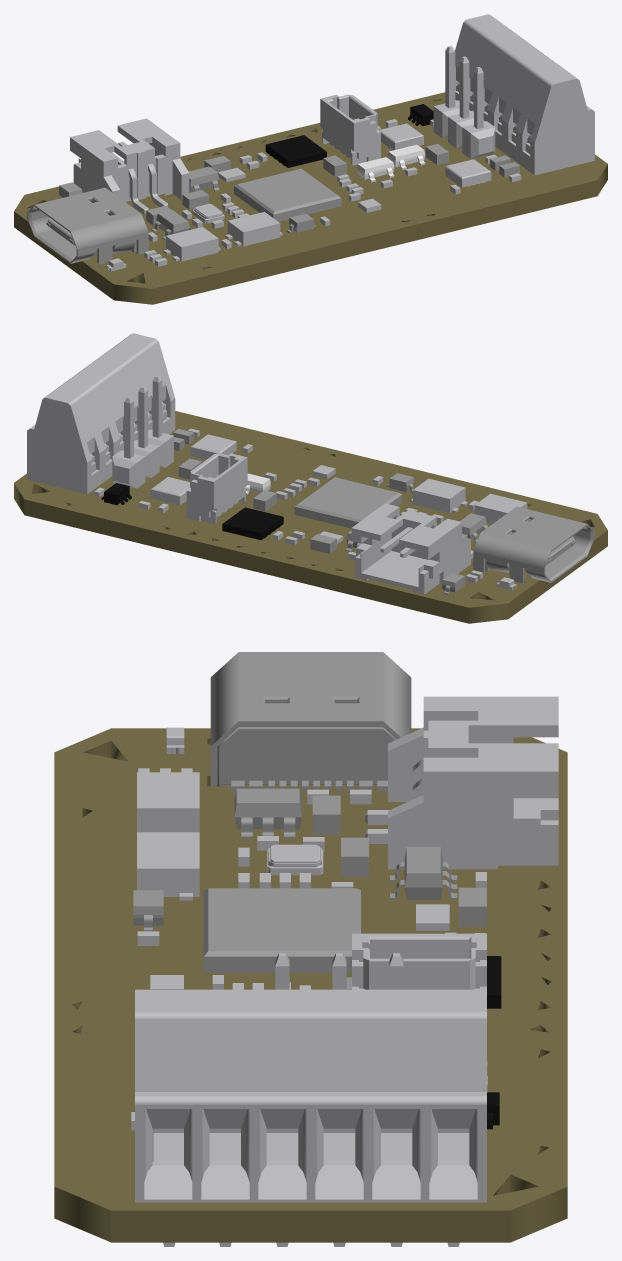
Rendered from ada-5768.glb.
The picture shows the model from 3 angles, top to bottom: view 1: azimuth 30°, elevation 25°; view 2: azimuth 150°, elevation 25°; view 3: azimuth 270°, elevation 25°; orthographic projection. The views are drawn at different scales.
Parts seen in each view (by area): view 1: 0.5833333333333334_0.5833333333333334_0.5833333333333334_0.8, 0.16666666666666666_0.16666666666666666_0.08333333333333333_, 0.3333333333333333_0.3333333333333333_0.3333333333333333_0, 0_0_0_0, 0.9166666666666666_0.9166666666666666_0.9166666666666666_0.8; view 2: 0.5833333333333334_0.5833333333333334_0.5833333333333334_0.8, 0.16666666666666666_0.16666666666666666_0.08333333333333333_, 0.3333333333333333_0.3333333333333333_0.3333333333333333_0, 0_0_0_0, 0.9166666666666666_0.9166666666666666_0.9166666666666666_0.8; view 3: 0.5833333333333334_0.5833333333333334_0.5833333333333334_0.8, 0.16666666666666666_0.16666666666666666_0.08333333333333333_, 0.3333333333333333_0.3333333333333333_0.3333333333333333_0, 0_0_0_0.
Part boxes in pixels (<box>): 0.5833333333333334_0.5833333333333334_0.5833333333333334_0.8: <box>48,14,594,271</box>; 0.16666666666666666_0.16666666666666666_0.08333333333333333_: <box>14,92,607,304</box>; 0.3333333333333333_0.3333333333333333_0.3333333333333333_0: <box>27,144,519,264</box>; 0_0_0_0: <box>265,104,433,167</box>; 0.9166666666666666_0.9166666666666666_0.9166666666666666_0.8: <box>357,144,425,182</box>; 0.5833333333333334_0.5833333333333334_0.5833333333333334_0.8: <box>27,333,573,594</box>; 0.16666666666666666_0.16666666666666666_0.08333333333333333_: <box>14,411,607,623</box>; 0.3333333333333333_0.3333333333333333_0.3333333333333333_0: <box>173,429,594,594</box>; 0_0_0_0: <box>101,483,283,540</box>; 0.9166666666666666_0.9166666666666666_0.9166666666666666_0.8: <box>244,473,270,494</box>; 0.5833333333333334_0.5833333333333334_0.5833333333333334_0.8: <box>131,696,558,1246</box>; 0.16666666666666666_0.16666666666666666_0.08333333333333333_: <box>54,728,567,1242</box>; 0.3333333333333333_0.3333333333333333_0.3333333333333333_0: <box>133,652,486,989</box>; 0_0_0_0: <box>487,956,501,1129</box>.
Bounding box in the file's own units: 5.2 × 1.2 × 2.29.
